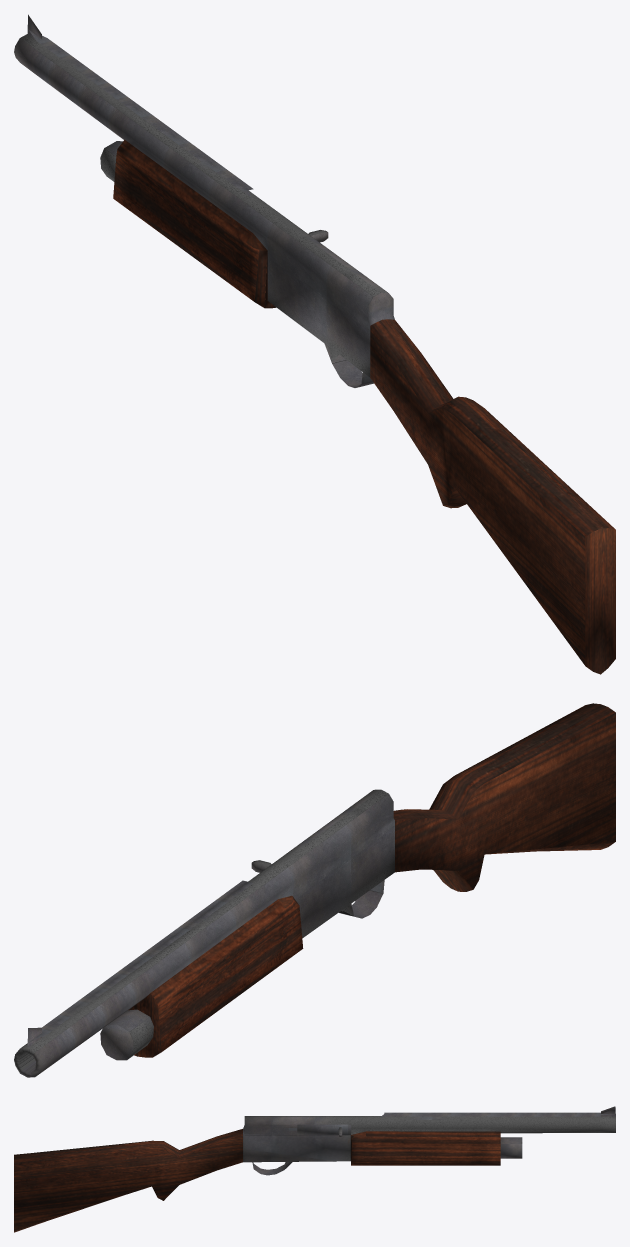
File: auto5.glb
The picture shows the model from 3 angles, top to bottom: view 1: azimuth 30°, elevation 25°; view 2: azimuth 150°, elevation 25°; view 3: azimuth 270°, elevation 25°; orthographic projection. The views are drawn at different scales.
Parts seen in each view (by area): view 1: auto5; view 2: auto5; view 3: auto5, auto5.001.
Part boxes in pixels (x1,y1,x2,y2): auto5: (14, 14, 615, 674); auto5: (14, 703, 615, 1077); auto5: (14, 1106, 615, 1232); auto5.001: (297, 1124, 350, 1136).
Bounding box in the file's own units: 0.1596 × 0.5966 × 2.57.
Materials: 2 (2 with a texture image).
